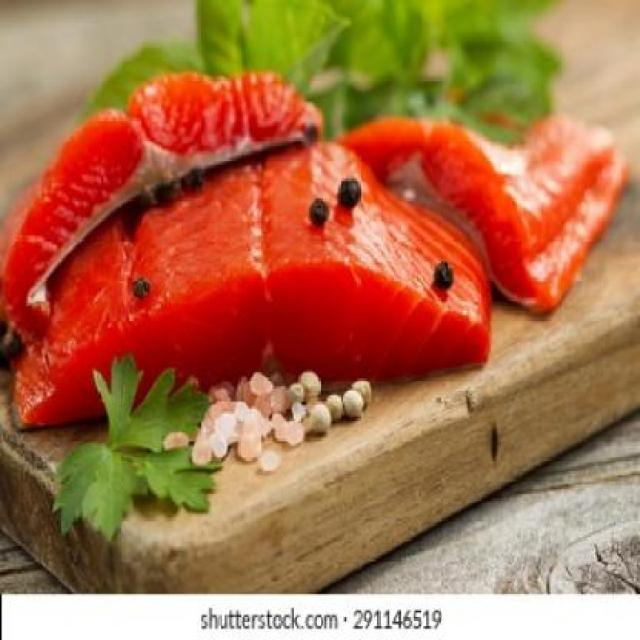salmon: (12, 131, 532, 451), (2, 51, 334, 318), (325, 64, 636, 326)
